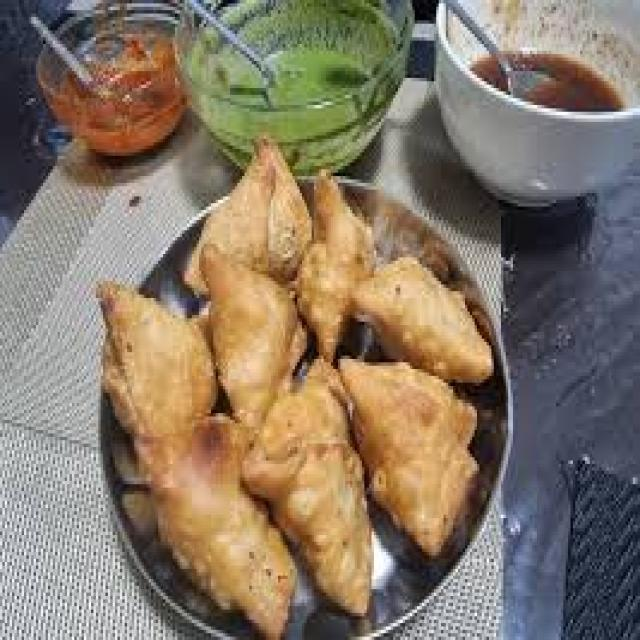SAMOSA: (139, 420, 295, 637), (242, 362, 369, 613), (340, 359, 477, 552), (185, 139, 309, 291), (204, 247, 304, 423), (355, 257, 491, 379), (103, 281, 213, 430), (295, 173, 374, 356)
